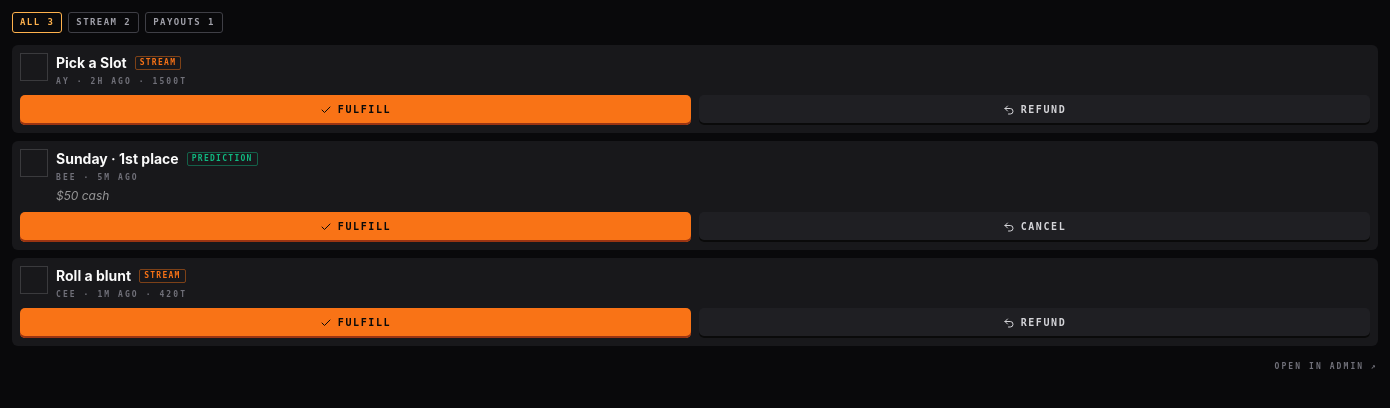
Test: a network failure says try again
This screenshot has width=1390, height=408.
Click the 1st button "Fulfill" at [356, 110], box [20,95,691,125]
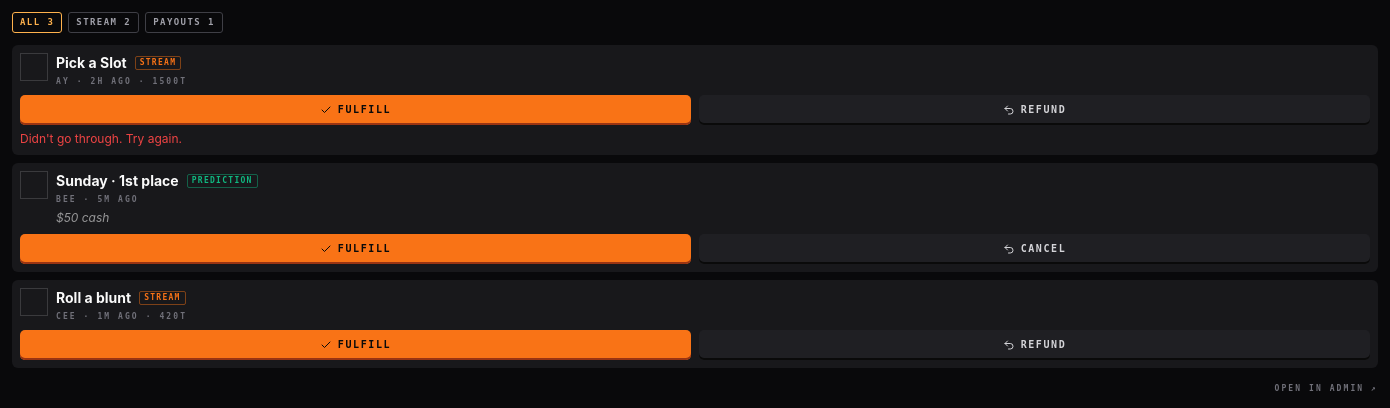
Check: the message reads "Didn't go through. Try again.", box [20,131,182,146]
